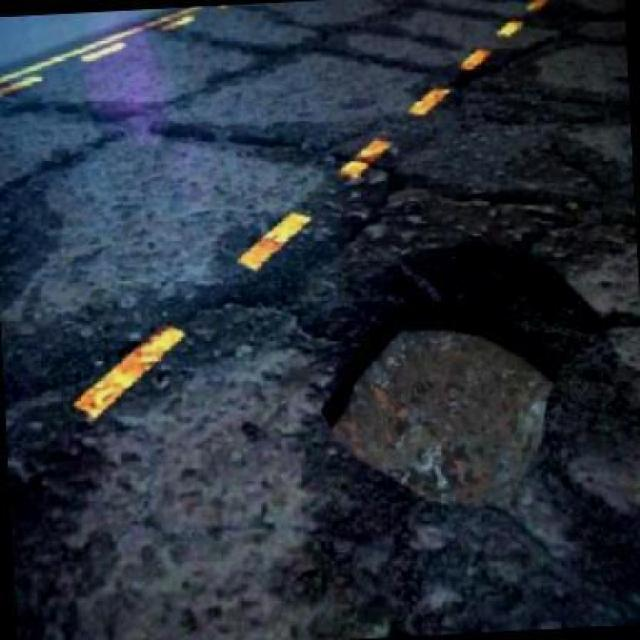pothole: (322, 235, 640, 594)
